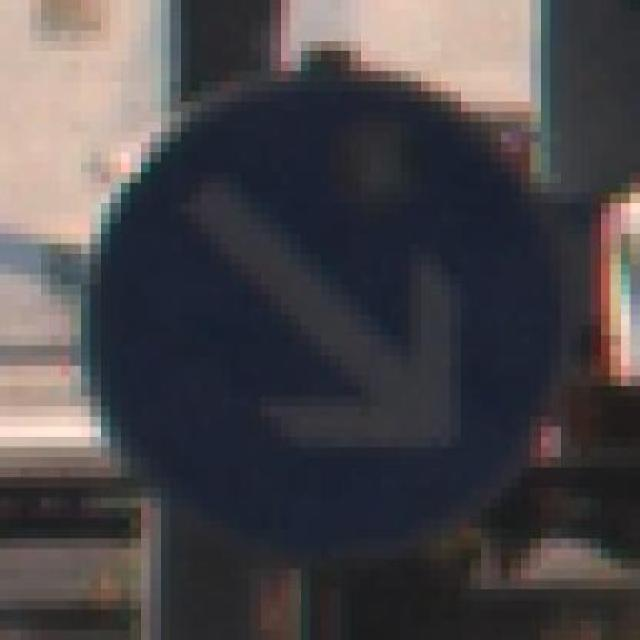Keep-Right: (69, 51, 580, 600)
